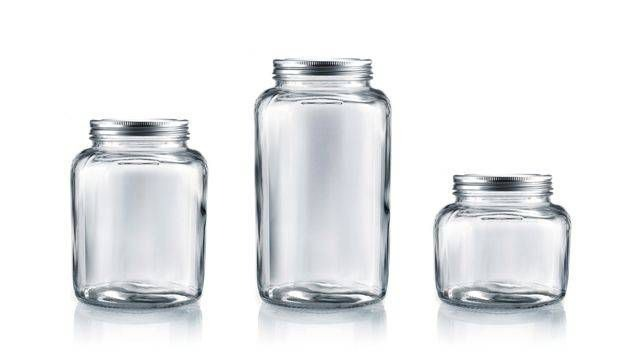container: (253, 47, 399, 310), (65, 114, 206, 310), (432, 166, 575, 315)
